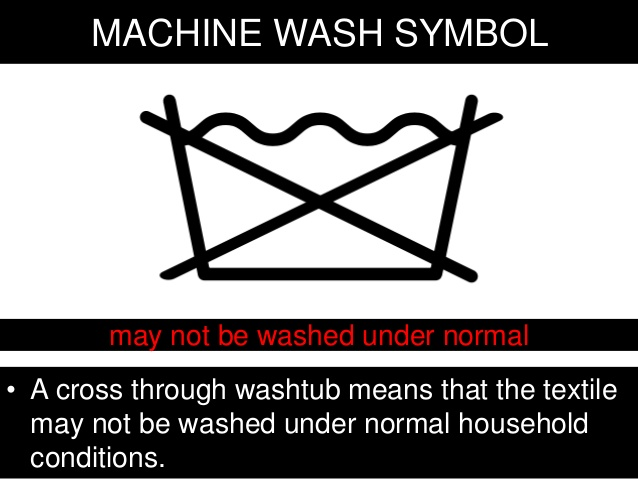do_not_wash: (126, 85, 505, 294)
